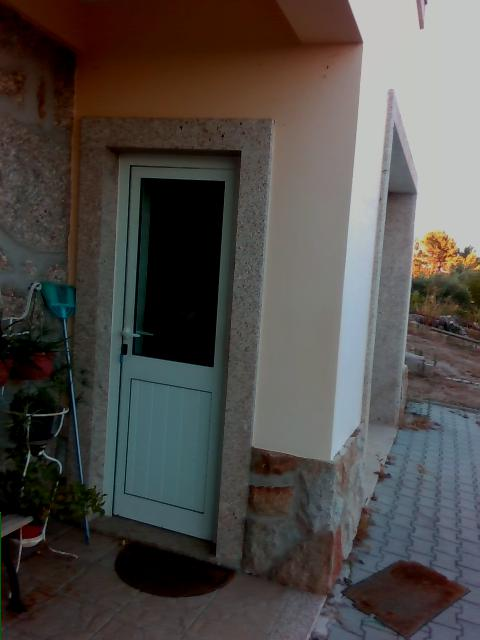closed_door: (100, 150, 241, 541)
